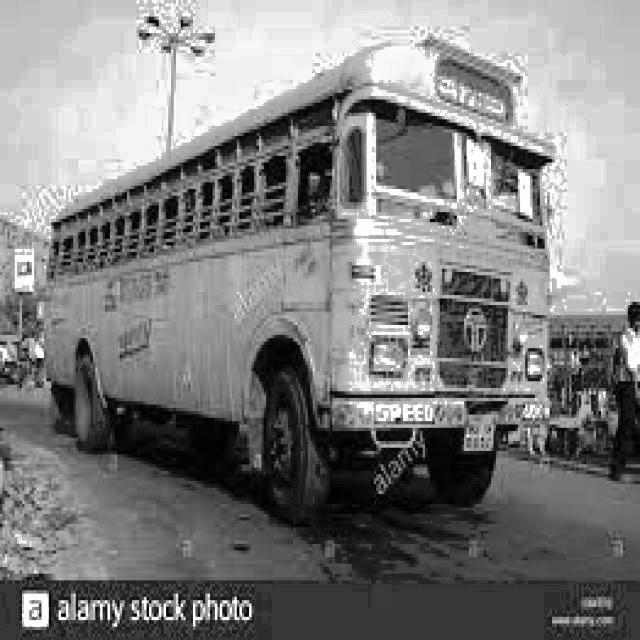Bus: (17, 12, 563, 555)
